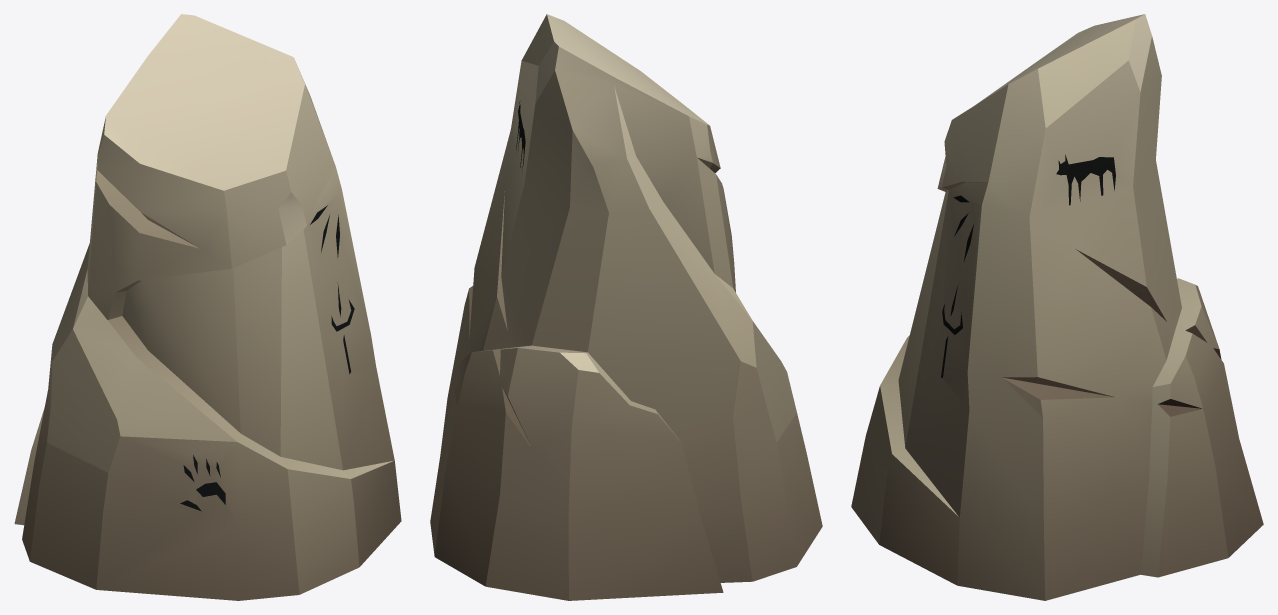
The model's file is Rock_Totem_2B.fbx.
The picture shows the model from 3 angles, left to right: view 1: azimuth 30°, elevation 25°; view 2: azimuth 150°, elevation 25°; view 3: azimuth 270°, elevation 25°; orthographic projection. The views are drawn at different scales.
Visible parts, largest first — view 1: Rock_Totem_2B; view 2: Rock_Totem_2B; view 3: Rock_Totem_2B.
Part boxes in pixels (x1,y1,x2,y2): Rock_Totem_2B: (14, 14, 401, 600); Rock_Totem_2B: (430, 14, 822, 600); Rock_Totem_2B: (851, 14, 1263, 600).
Size of the model in its own units: 236 by 306 by 227.
